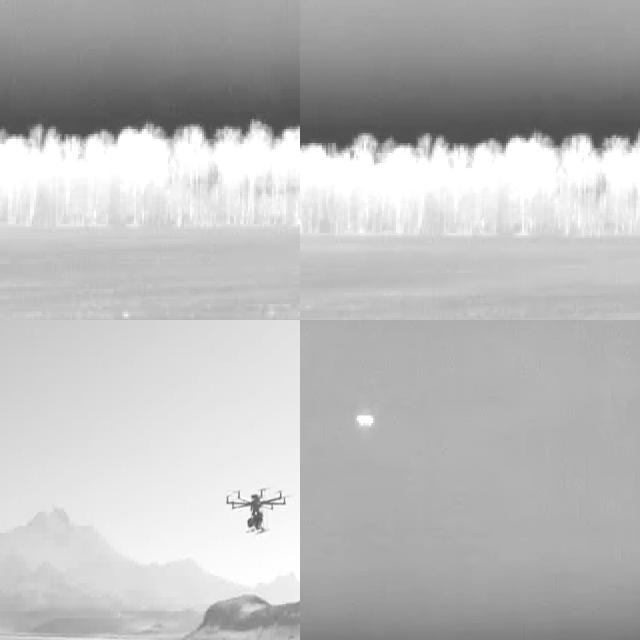1: (349, 409, 385, 439)
drone: (226, 483, 292, 539)
